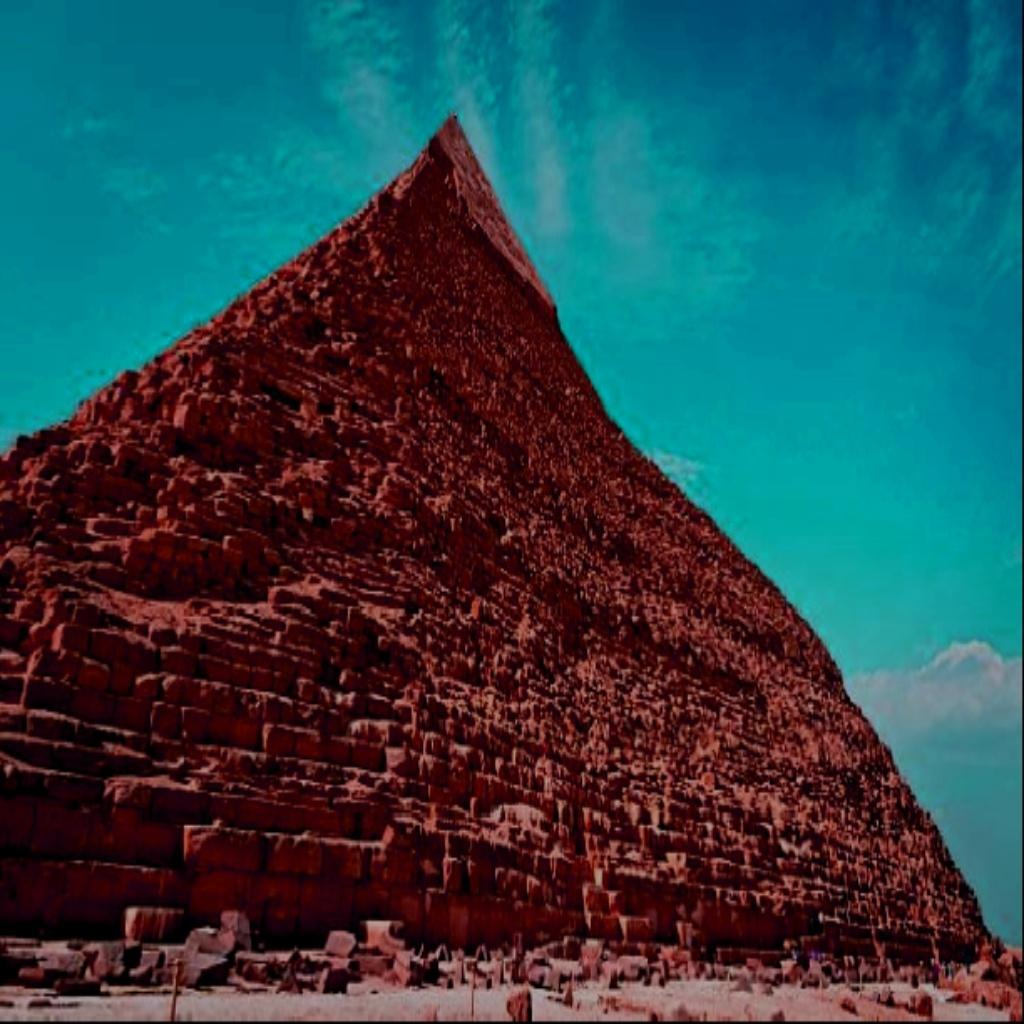Great Pyramids of Giza: (2, 103, 1004, 971)
